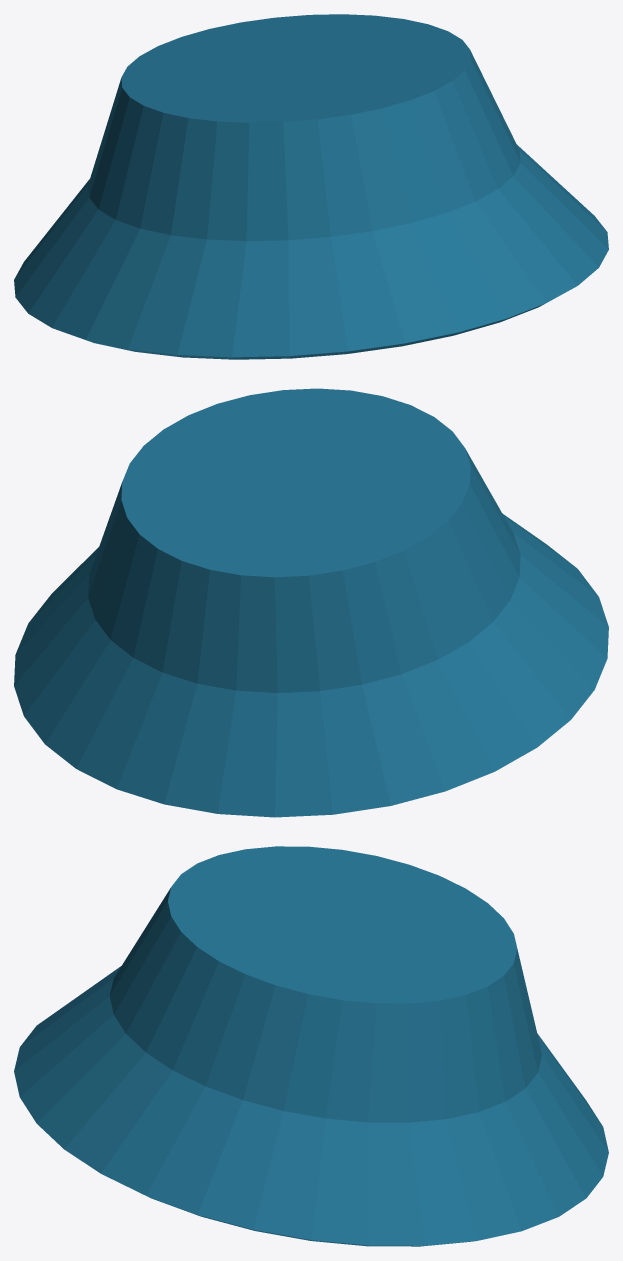
File: strawhat.glb
3 renders of one model, top to bottom at view 1: azimuth 30°, elevation 25°; view 2: azimuth 150°, elevation 25°; view 3: azimuth 270°, elevation 25°, orthographic.
Visible parts, largest first — view 1: strawhat; view 2: strawhat; view 3: strawhat.
Boxes of the visible parts, <box> form: strawhat: <box>14,14,608,359</box>; strawhat: <box>14,388,608,817</box>; strawhat: <box>14,846,608,1246</box>.
Bounding box in the file's own units: 2.52 × 1.17 × 2.47.
